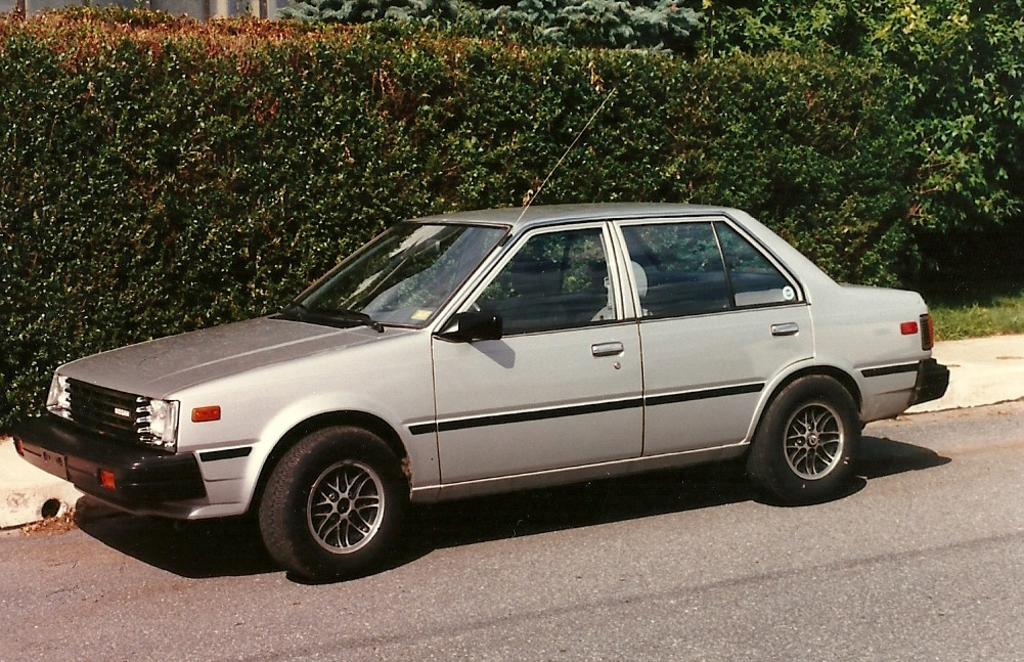Car: (9, 83, 953, 581)
